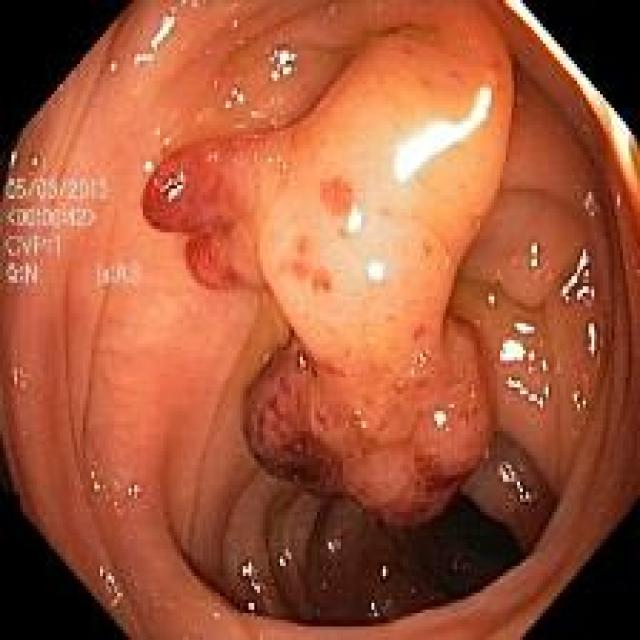Polyps: (142, 6, 514, 527)
